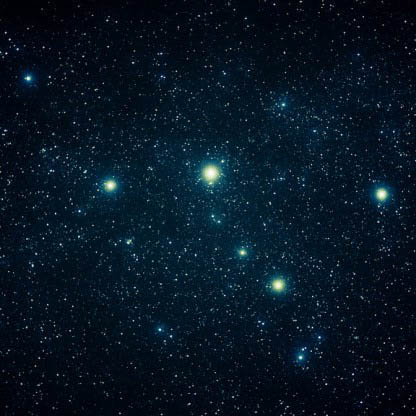Cassiopeia: (230, 240, 296, 297), (189, 151, 239, 198), (92, 166, 125, 207), (368, 180, 395, 213), (14, 64, 42, 95)
